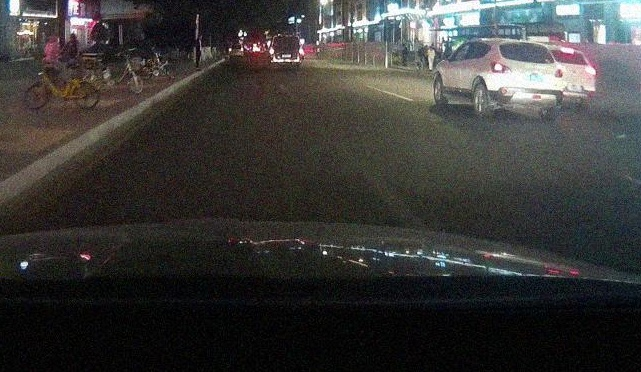L_light: (490, 61, 512, 74), (269, 47, 274, 56)
R_light: (554, 68, 563, 78), (299, 48, 304, 57)
T_light: (284, 36, 290, 39), (521, 43, 529, 45)
night-left: (487, 39, 563, 121)
night-no: (269, 34, 304, 70)
